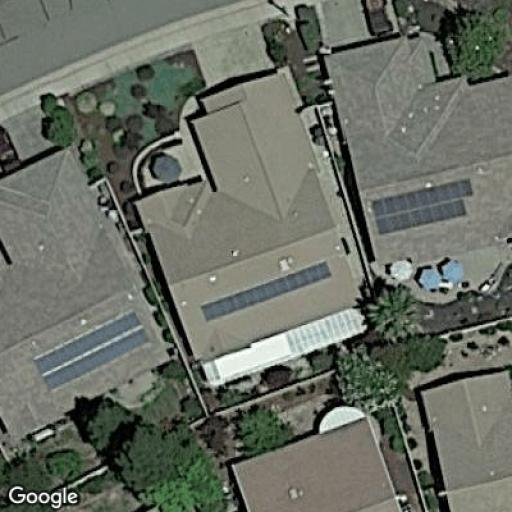solar-panel: (32, 309, 152, 392), (198, 259, 333, 323), (368, 178, 475, 236)
